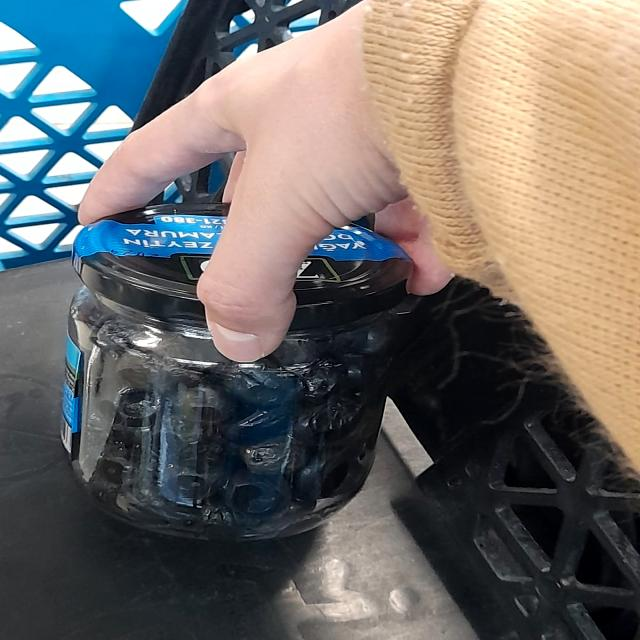olive: (27, 202, 470, 567), (117, 353, 387, 515)
